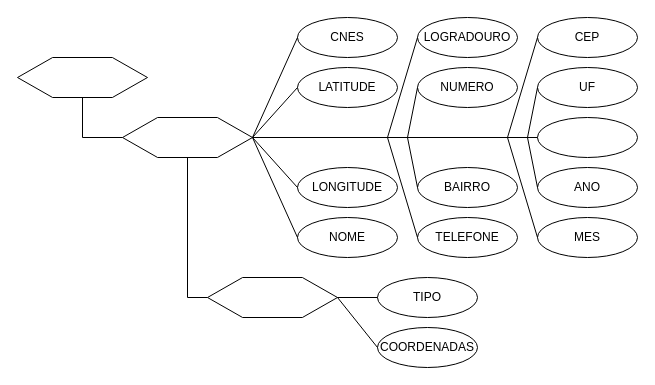
Some shapes in this 655 by 385 pixel diagram are drawn without their labels. Each missing label, with the box of its shape:
CIDADE: (536, 116, 638, 158)
GEOMETRIA: (206, 276, 338, 318)
UBS: (122, 116, 252, 158)
UBSs: (16, 56, 148, 98)
